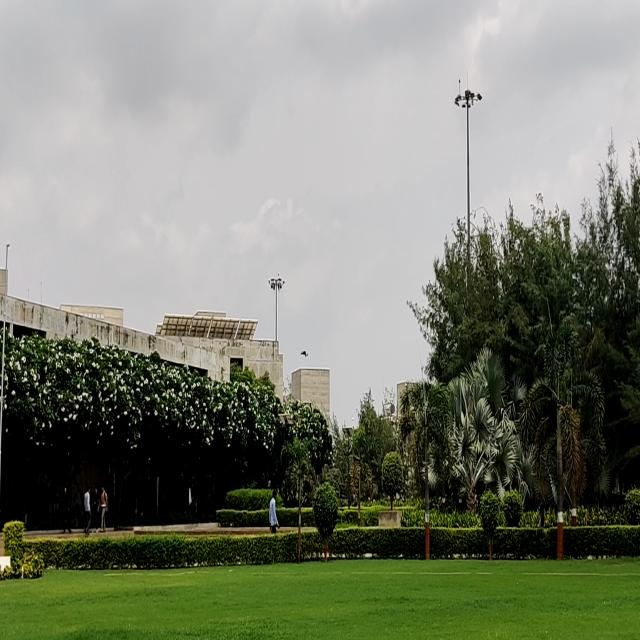drone: (296, 342, 311, 362)
